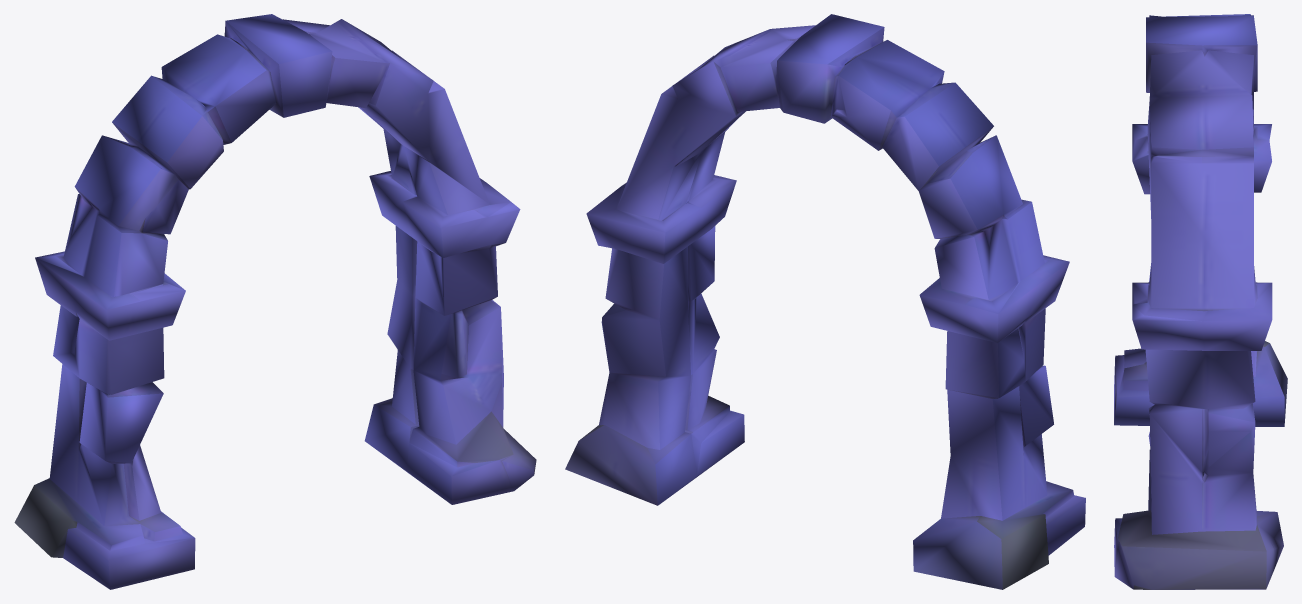
Rendered from model.progressive.glb.
3 views of the same model, side by side, from view 1: azimuth 30°, elevation 25°; view 2: azimuth 150°, elevation 25°; view 3: azimuth 270°, elevation 25° (orthographic). The views are drawn at different scales.
Parts seen in each view (by area): view 1: material; view 2: material; view 3: material.
Boxes of the visible parts, x1,y1,x2,y2 form: material: [14, 14, 536, 589]; material: [565, 14, 1085, 589]; material: [1114, 14, 1287, 589].
Size of the model in its own units: 1.86 by 1.84 by 0.6295.
1 material, 1 textured.
